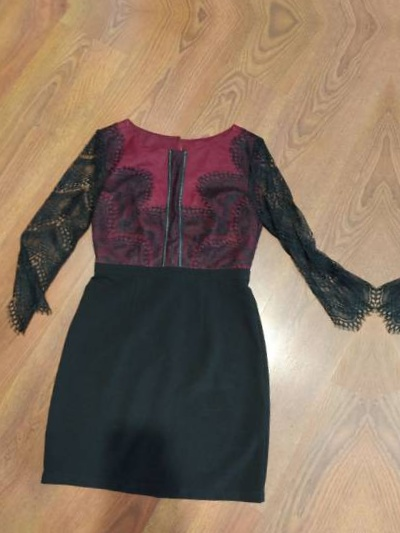Dress: (0, 91, 378, 526), (371, 118, 400, 533)
